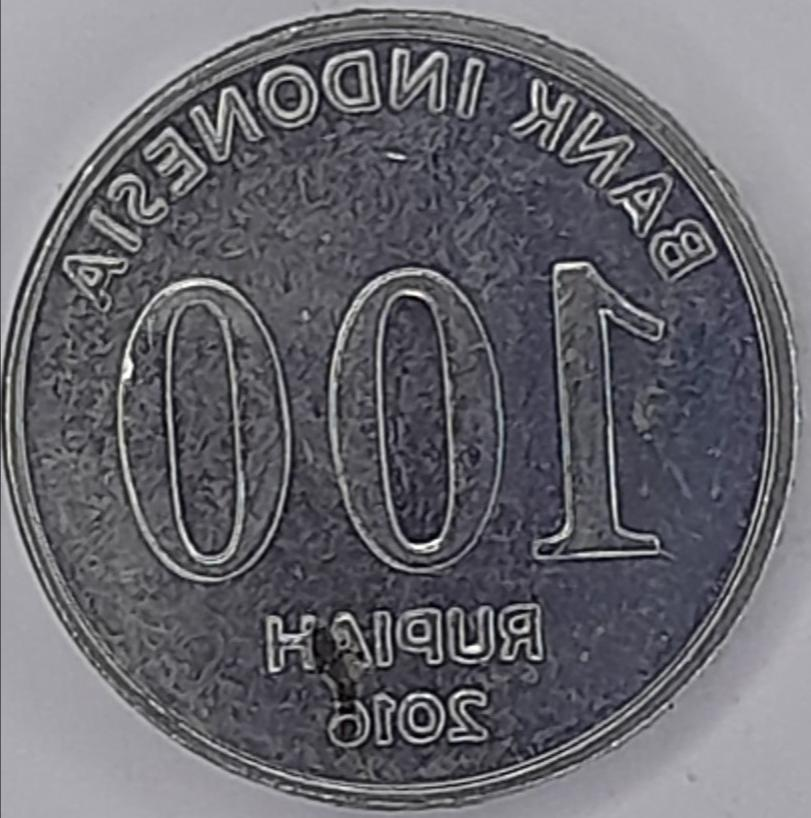coin_100_e2016: (0, 2, 805, 812)
